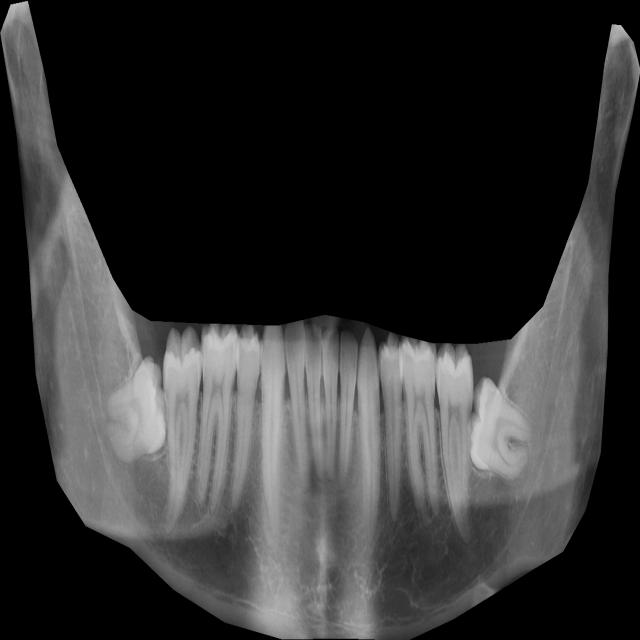mandibula: (0, 1, 640, 640)
